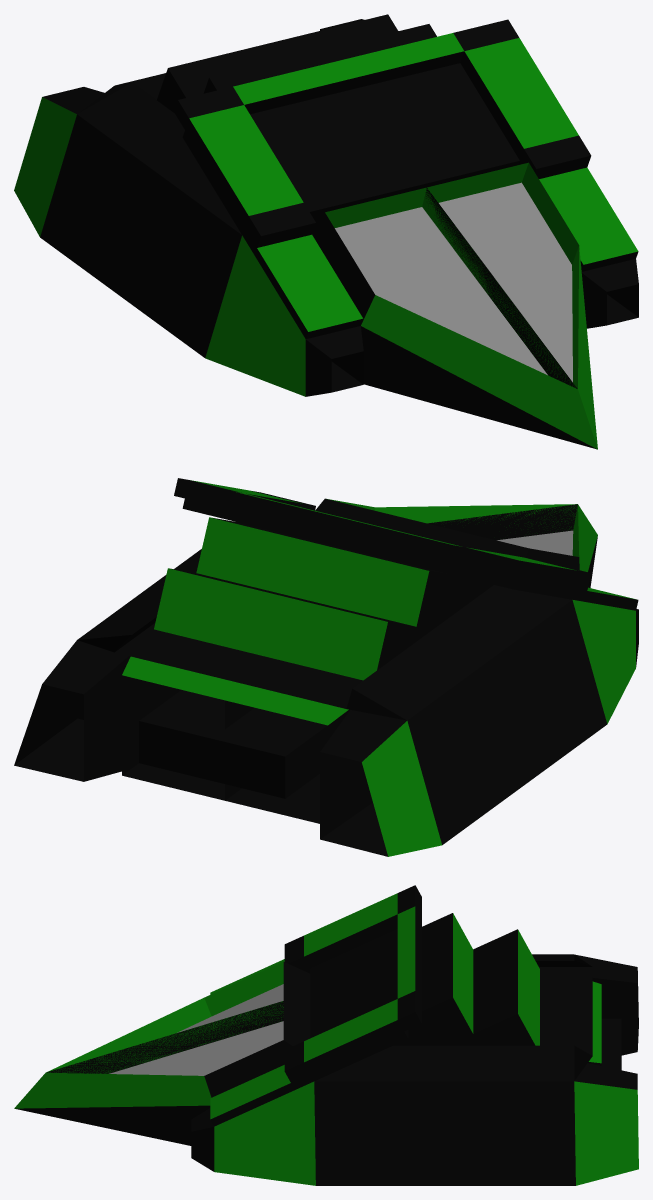
The model's file is spaceship4Enemy.fbx.
The picture shows the model from 3 angles, top to bottom: view 1: azimuth 30°, elevation 25°; view 2: azimuth 150°, elevation 25°; view 3: azimuth 270°, elevation 25°; orthographic projection. The views are drawn at different scales.
Parts seen in each view (by area): view 1: Cube; view 2: Cube; view 3: Cube.
Part boxes in pixels (bbox=[...]): Cube: bbox=[14, 14, 638, 449]; Cube: bbox=[14, 478, 638, 856]; Cube: bbox=[14, 885, 638, 1185].
Size of the model in its own units: 731 by 353 by 1249.
